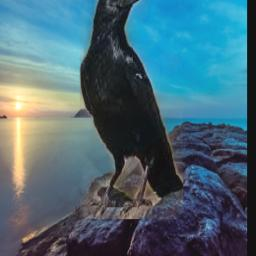Crow: (81, 0, 184, 220)
